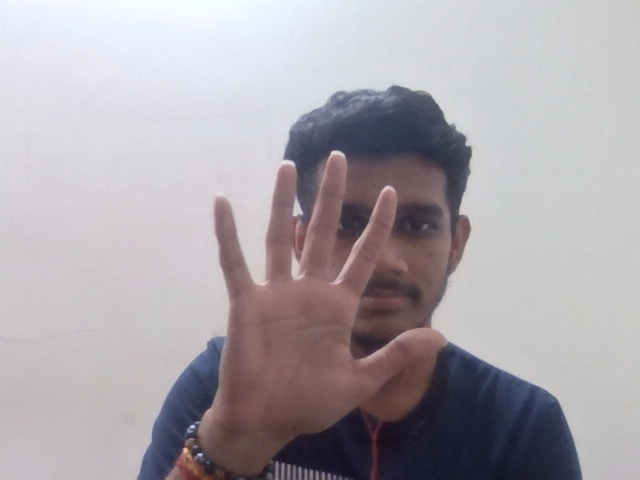hello: (174, 146, 451, 433)
